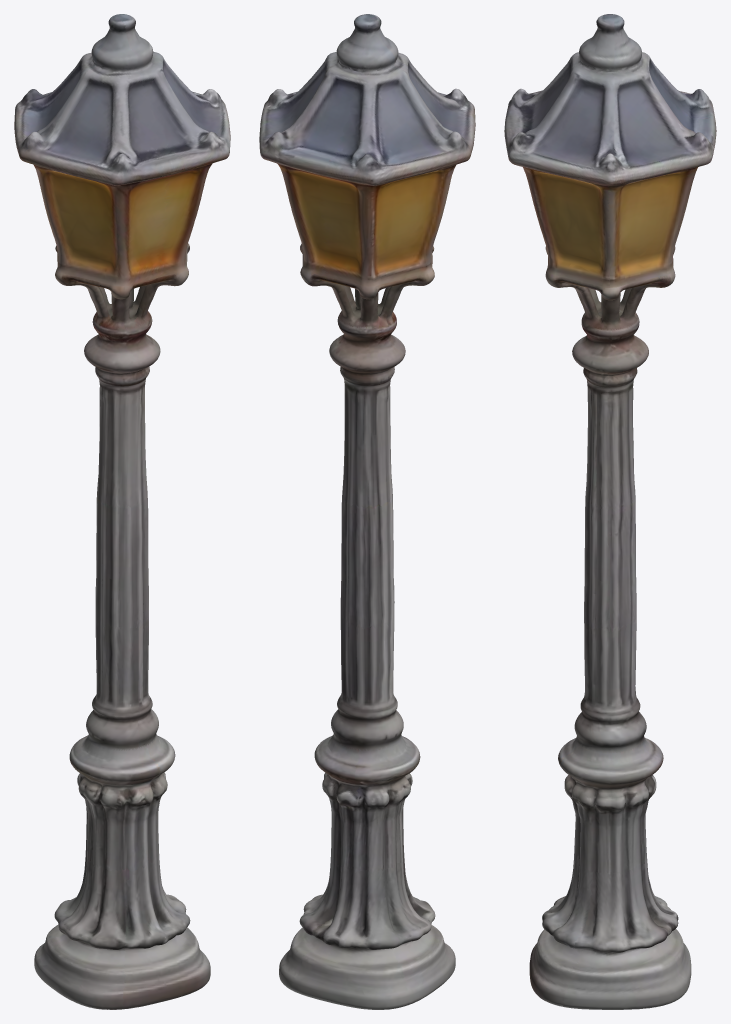
File: street_lamp.glb
3 renders of one model, left to right at view 1: azimuth 30°, elevation 25°; view 2: azimuth 150°, elevation 25°; view 3: azimuth 270°, elevation 25°, orthographic.
Visible parts, largest first — view 1: tripo_node_038250da-06b9-4a7d-a320-19b93d8494ac; view 2: tripo_node_038250da-06b9-4a7d-a320-19b93d8494ac; view 3: tripo_node_038250da-06b9-4a7d-a320-19b93d8494ac.
Boxes of the visible parts, x1,y1,x2,y2 form: tripo_node_038250da-06b9-4a7d-a320-19b93d8494ac: [14, 14, 230, 1009]; tripo_node_038250da-06b9-4a7d-a320-19b93d8494ac: [259, 14, 475, 1009]; tripo_node_038250da-06b9-4a7d-a320-19b93d8494ac: [504, 14, 716, 1009].
Size of the model in its own units: 0.2127 by 0.9495 by 0.19.
Materials: 1 (1 with a texture image).
